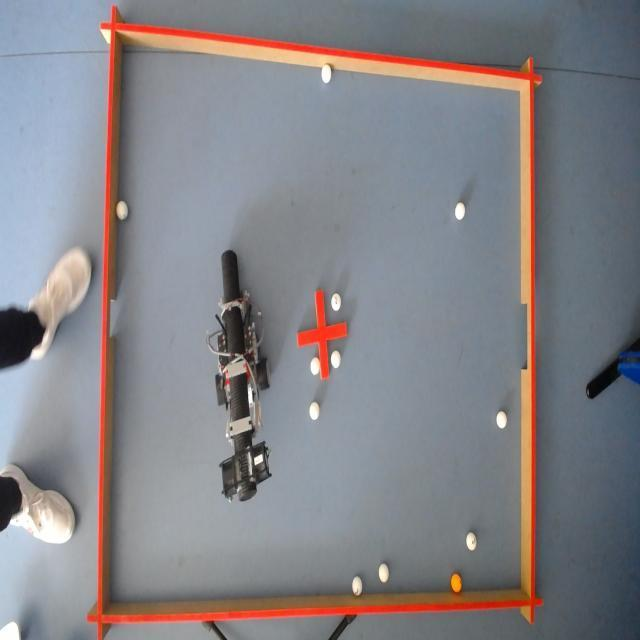orange: (448, 574, 462, 596)
robot: (211, 256, 264, 489)
white: (376, 562, 388, 586), (116, 200, 130, 220), (465, 530, 476, 552), (308, 401, 320, 421), (453, 200, 465, 220), (351, 575, 362, 596), (308, 358, 320, 376), (331, 347, 341, 368), (320, 62, 330, 82), (330, 293, 341, 311), (497, 410, 508, 428)
